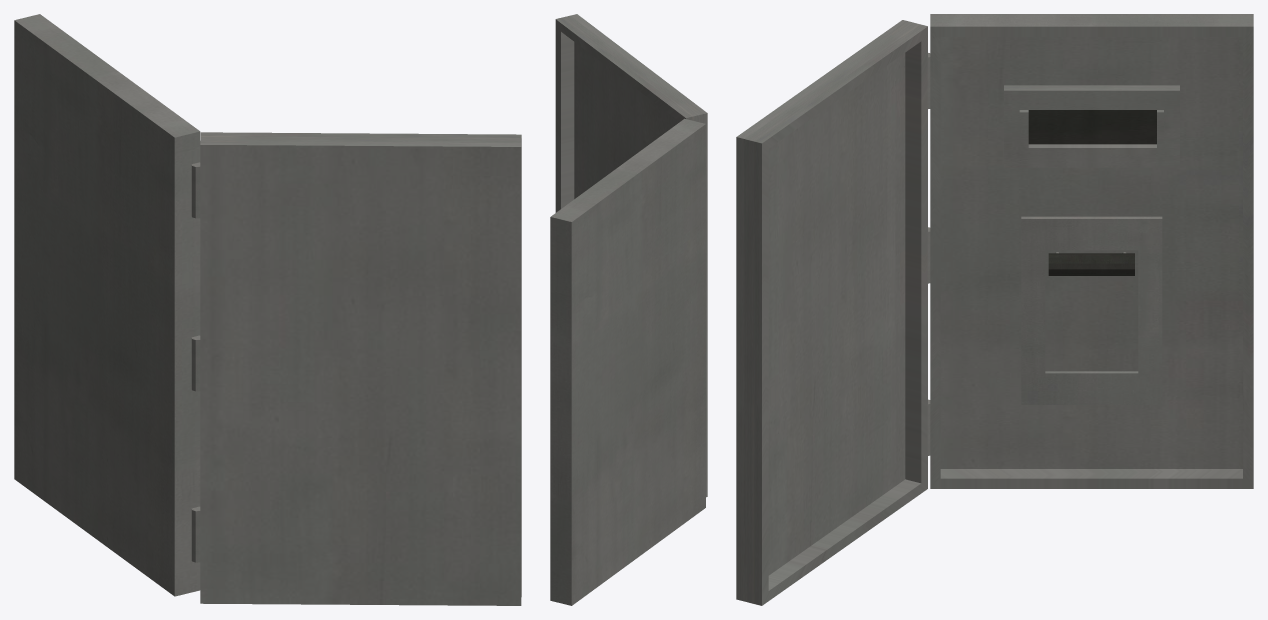
Rendered from fuseBox_v2.fbx.
The picture shows the model from 3 angles, left to right: view 1: azimuth 30°, elevation 25°; view 2: azimuth 150°, elevation 25°; view 3: azimuth 270°, elevation 25°; orthographic projection. The views are drawn at different scales.
Visible parts, largest first — view 1: door, base; view 2: base, door; view 3: base, door, leverBG, fuseHole, pCylinder1.
Boxes of the visible parts, box(x1,y1,x2,y2) form: door: box(200, 132, 521, 605); base: box(14, 14, 200, 596); base: box(550, 118, 705, 605); door: box(555, 14, 707, 497); base: box(930, 14, 1253, 488); door: box(736, 20, 927, 605); leverBG: box(1021, 216, 1162, 404); fuseHole: box(1004, 85, 1179, 167); pCylinder1: box(1048, 253, 1134, 275).
Bounding box in the file's own units: 41.51 × 69.12 × 70.05.
2 materials, 2 textured.
